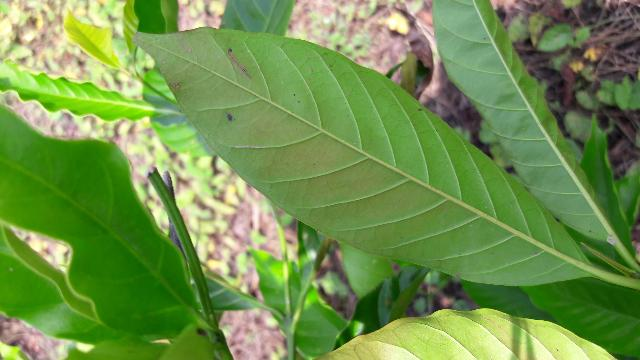healthy: (133, 31, 602, 282)
